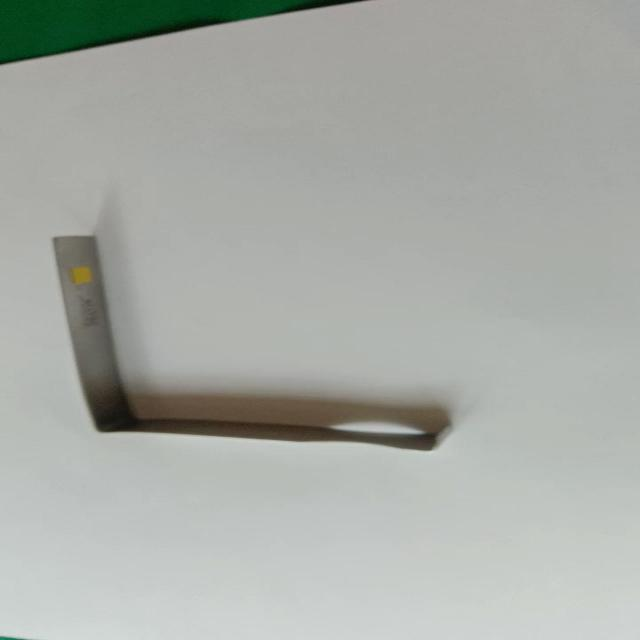AustinRetractor: (44, 225, 480, 455)
